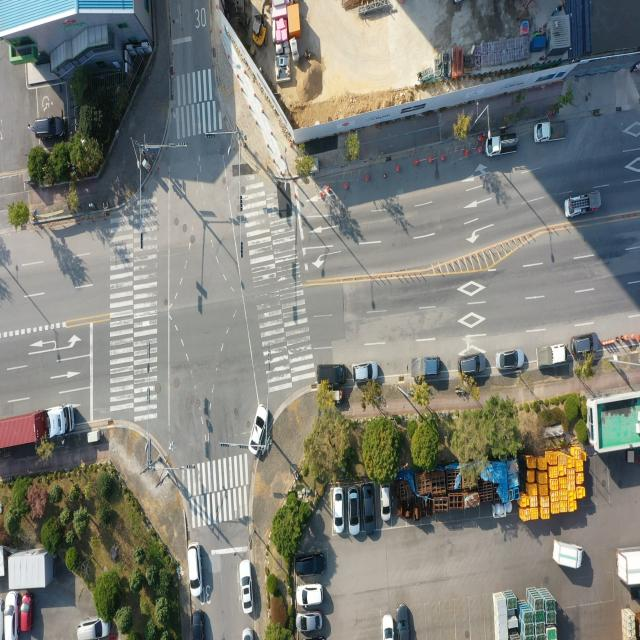car: (250, 403, 270, 454), (36, 117, 68, 143), (297, 554, 326, 579), (319, 362, 349, 385), (187, 545, 200, 598), (5, 591, 19, 640), (80, 617, 109, 640), (496, 349, 524, 372), (458, 352, 486, 375), (241, 562, 253, 614), (362, 486, 374, 536), (298, 585, 324, 608), (572, 335, 598, 357), (352, 360, 378, 382), (19, 594, 32, 636), (349, 488, 360, 536), (335, 488, 346, 534), (299, 615, 324, 635), (396, 605, 409, 640), (194, 610, 206, 640), (381, 486, 391, 520), (384, 615, 396, 640), (241, 628, 252, 640)
large_truck: (0, 406, 74, 452)
medium_truck: (617, 548, 640, 588)
small_truck: (565, 192, 602, 220), (552, 541, 584, 571), (535, 344, 568, 370), (485, 134, 518, 158), (536, 121, 568, 145), (410, 354, 441, 378)
